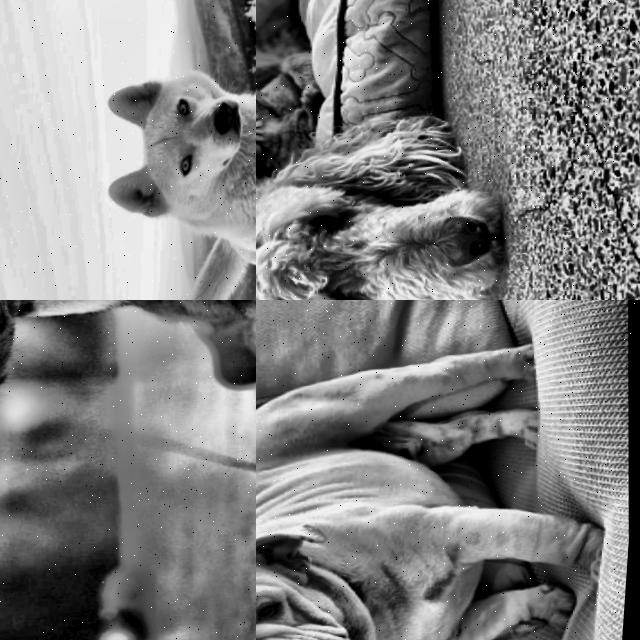bulldog: (256, 497, 397, 640)
husky: (72, 22, 256, 253)
poodle: (256, 101, 542, 300)
rottweiler: (0, 300, 121, 483)
